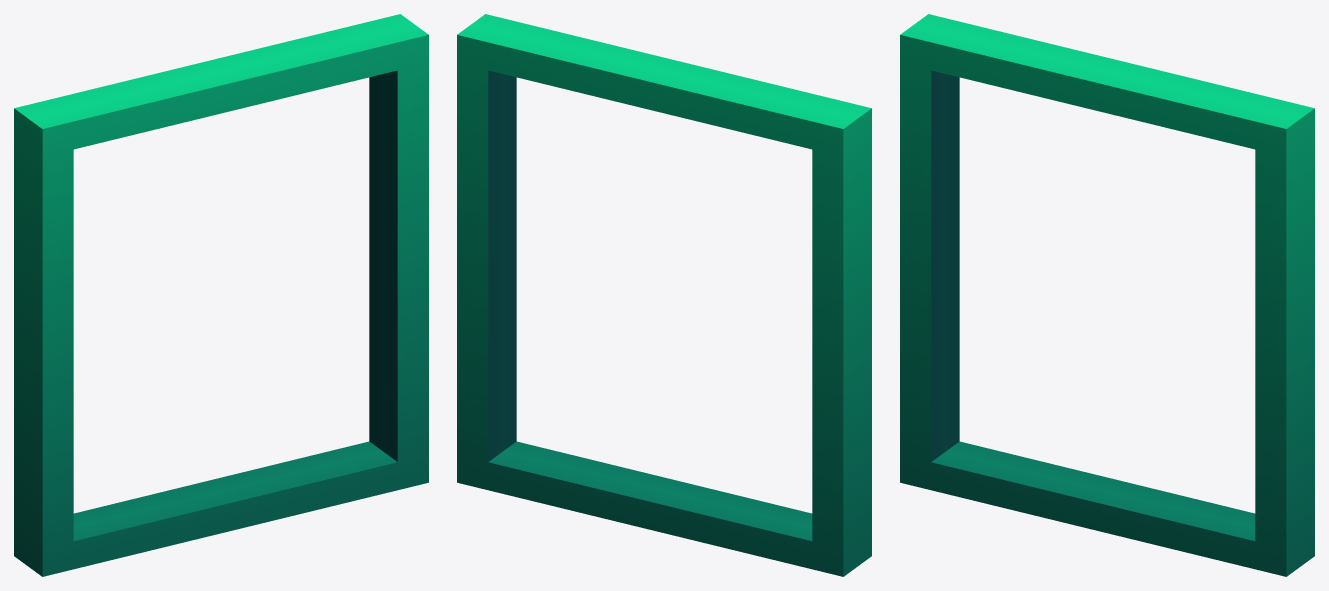
Rendered from DoorJamb.fbx.
3 views of the same model, side by side, from view 1: azimuth 30°, elevation 25°; view 2: azimuth 150°, elevation 25°; view 3: azimuth 330°, elevation 25° (orthographic).
Parts seen in each view (by area): view 1: DoorJamb; view 2: DoorJamb; view 3: DoorJamb.
Boxes of the visible parts, x1,y1,x2,y2 form: DoorJamb: (14,14,428,576); DoorJamb: (457,14,871,576); DoorJamb: (900,14,1314,576).
Size of the model in its own units: 8.23 by 1.05 by 9.12.
